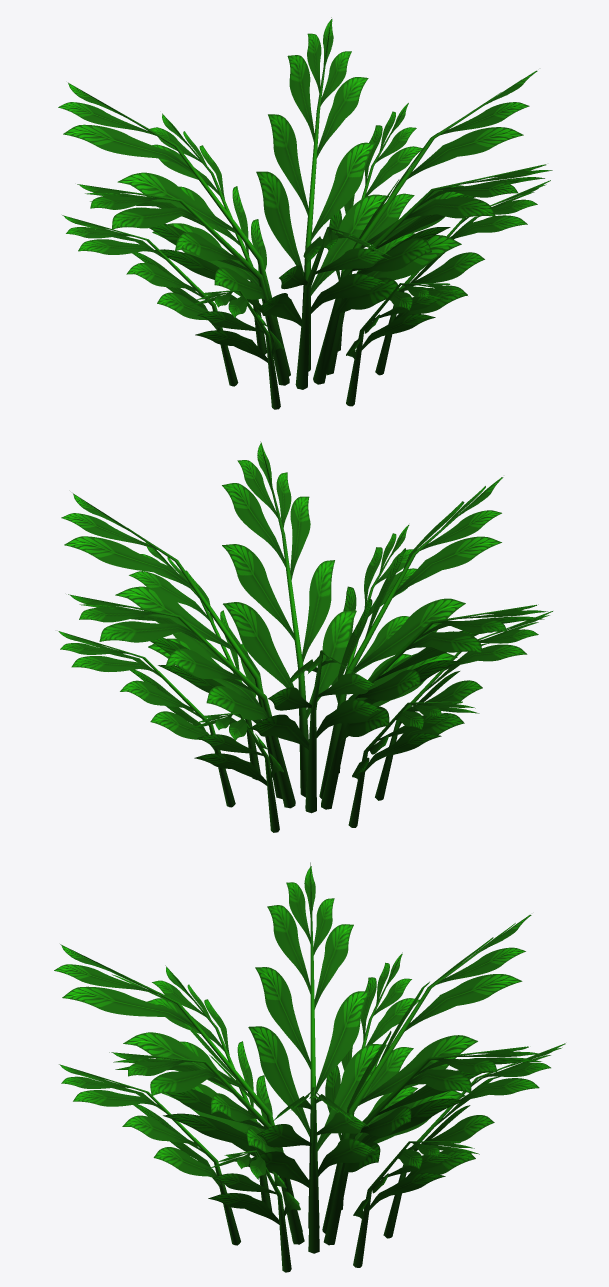
The model's file is Bush_04.FBX.
3 views of the same model, one above another, from view 1: azimuth 30°, elevation 25°; view 2: azimuth 150°, elevation 25°; view 3: azimuth 270°, elevation 25° (orthographic). The views are drawn at different scales.
Visible parts, largest first — view 1: Bush_04; view 2: Bush_04; view 3: Bush_04.
Part boxes in pixels (x1=…): Bush_04: x1=58, y1=17, x2=552, y2=409; Bush_04: x1=58, y1=441, x2=552, y2=832; Bush_04: x1=54, y1=862, x2=565, y2=1272.
Size of the model in its own units: 55.96 by 27.13 by 54.32.
Materials: 1 (1 with a texture image).
